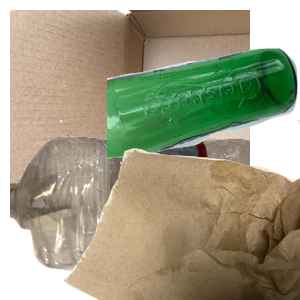cardboard: (10, 10, 250, 190)
glass: (107, 46, 300, 197)
plastic: (10, 134, 250, 300)
trash: (60, 120, 300, 300)
